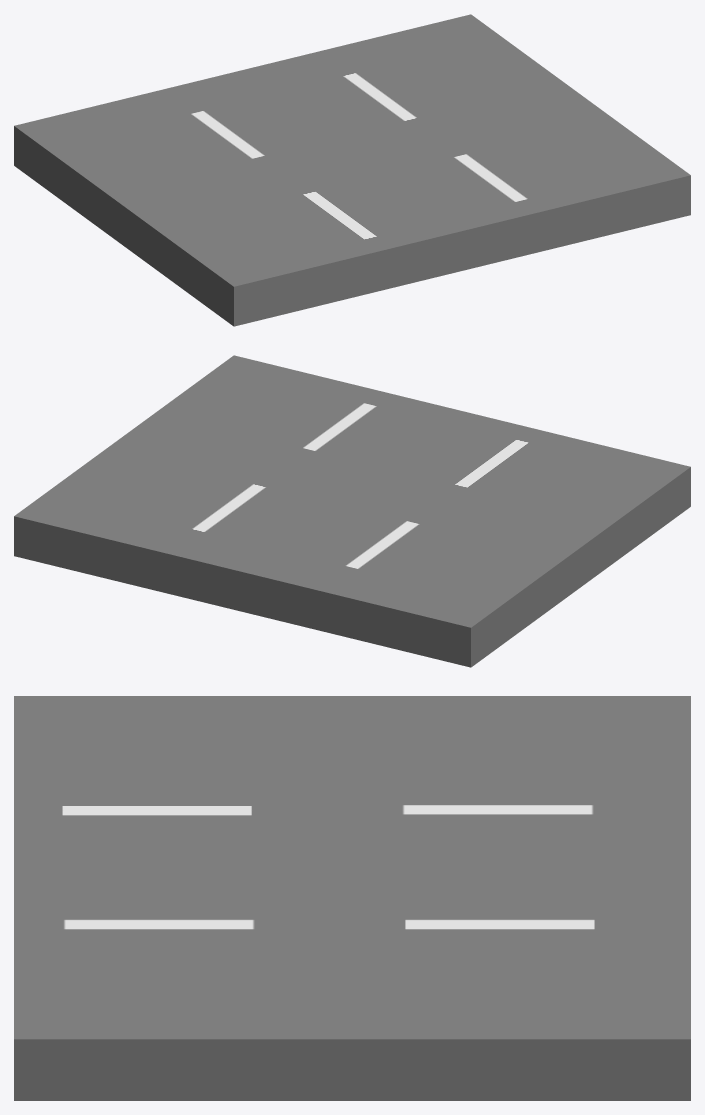
The model's file is roadb.fbx.
The picture shows the model from 3 angles, top to bottom: view 1: azimuth 30°, elevation 25°; view 2: azimuth 150°, elevation 25°; view 3: azimuth 270°, elevation 25°; orthographic projection. The views are drawn at different scales.
Visible parts, largest first — view 1: pCube2; view 2: pCube2; view 3: pCube2.
Boxes of the visible parts, x1,y1,x2,y2 form: pCube2: [14, 14, 690, 326]; pCube2: [14, 355, 690, 667]; pCube2: [14, 696, 690, 1100].
Bounding box in the file's own units: 6 × 0.5 × 5.
Materials: 1 (1 with a texture image).
